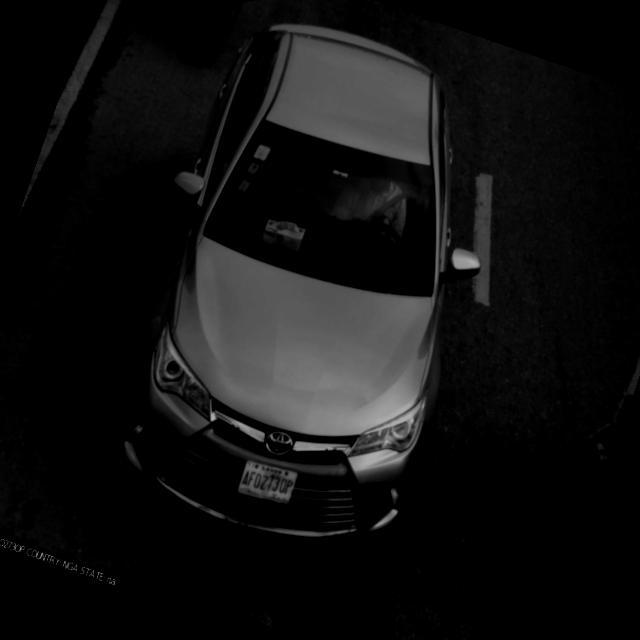windshield: (195, 109, 449, 306)
